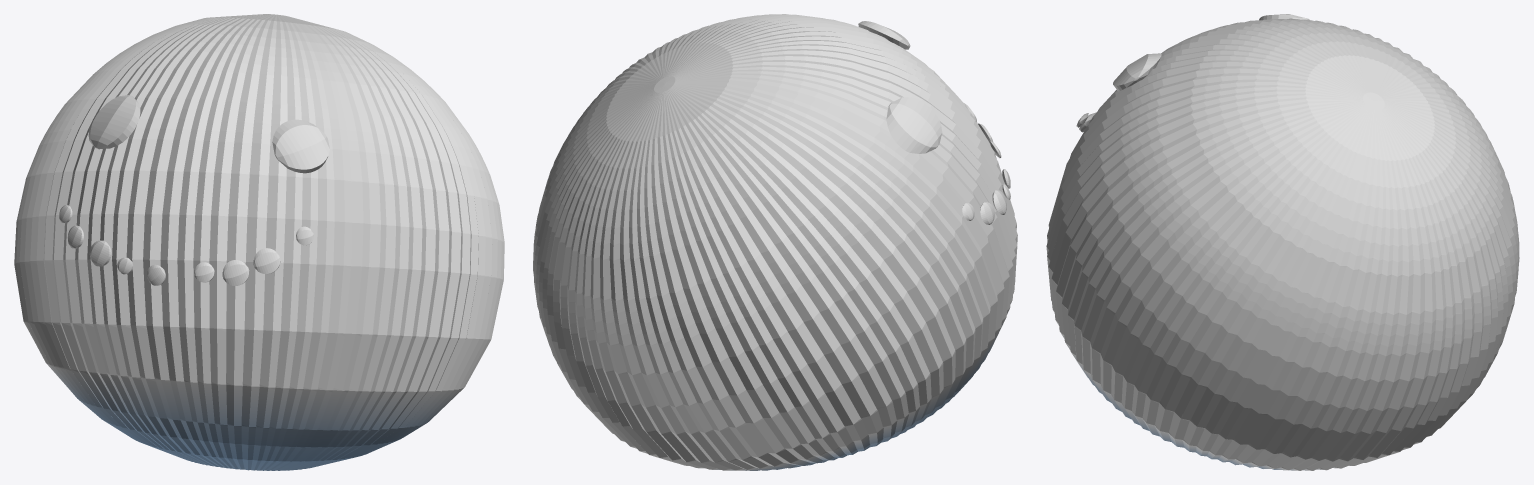
The model's file is Snowman-Head.fbx.
3 views of the same model, side by side, from view 1: azimuth 30°, elevation 25°; view 2: azimuth 150°, elevation 25°; view 3: azimuth 270°, elevation 25° (orthographic). The views are drawn at different scales.
Parts seen in each view (by area): view 1: Head, Face; view 2: Head, Face; view 3: Head, Face.
Boxes of the visible parts, x1,y1,x2,y2 form: Head: (14, 14, 504, 470); Face: (59, 95, 329, 285); Head: (533, 14, 1017, 470); Face: (858, 21, 1010, 224); Head: (1046, 19, 1519, 470); Face: (1076, 14, 1309, 132).
Bounding box in the file's own units: 5.52 × 5.05 × 5.55.
